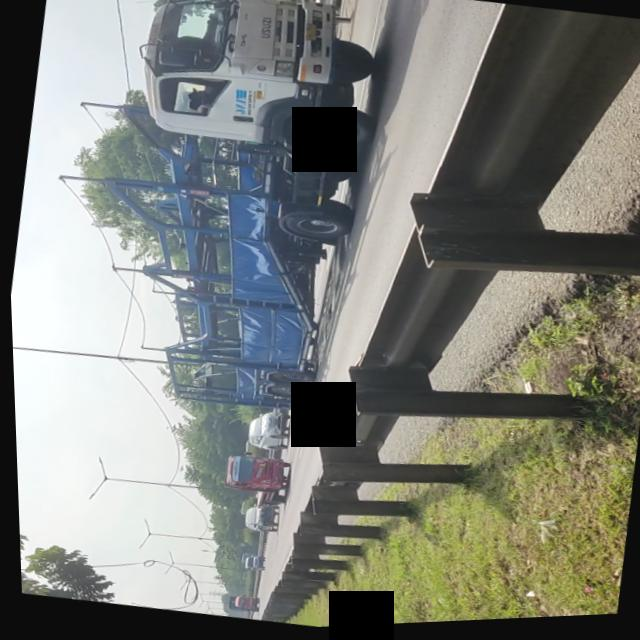Golongan IV: (69, 0, 410, 429)
